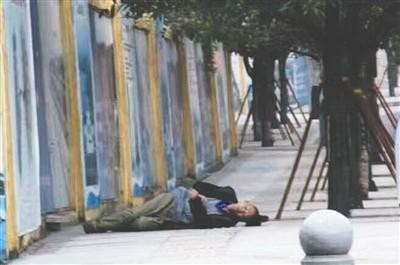falling: (76, 175, 272, 235)
